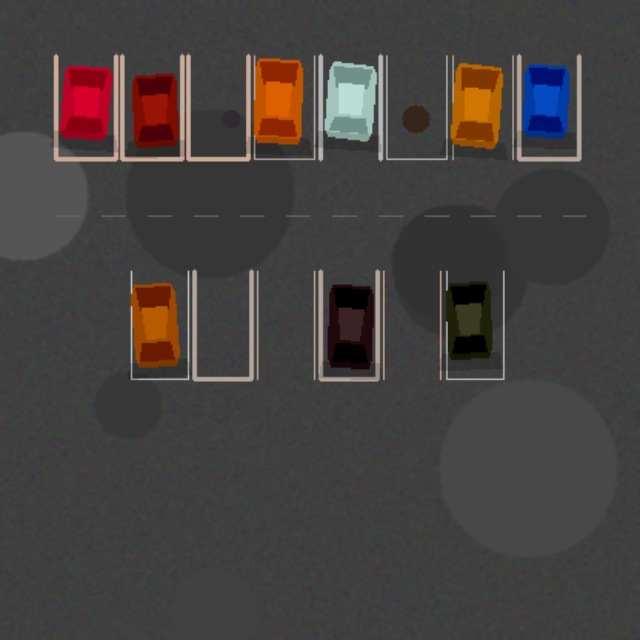space-empty: (188, 55, 248, 158), (386, 55, 446, 158), (194, 271, 251, 378), (257, 271, 314, 378), (383, 271, 440, 378)
space-occupied: (55, 55, 115, 158), (122, 55, 182, 158), (254, 55, 314, 158), (320, 55, 380, 158), (452, 55, 512, 158), (518, 55, 578, 158), (131, 271, 188, 378), (320, 271, 377, 378), (446, 271, 503, 378)
